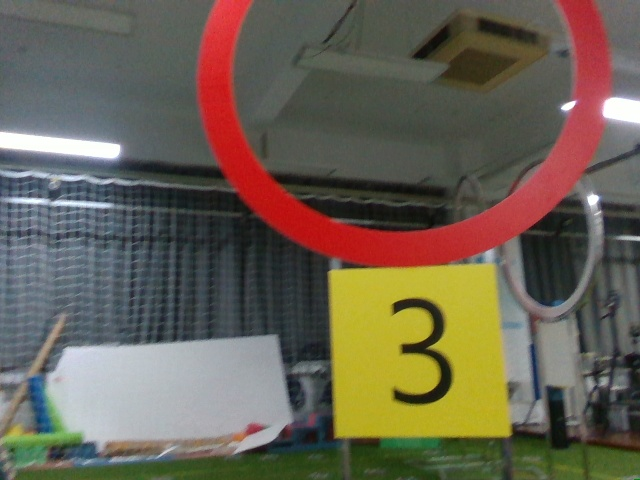target: (334, 269, 493, 431)
